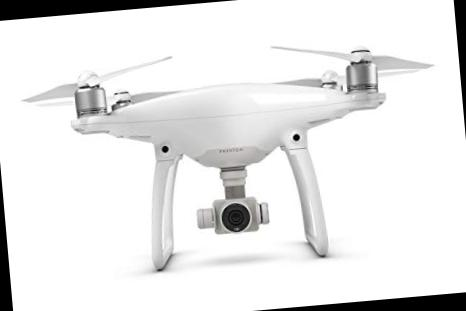drone: (38, 24, 458, 270)
